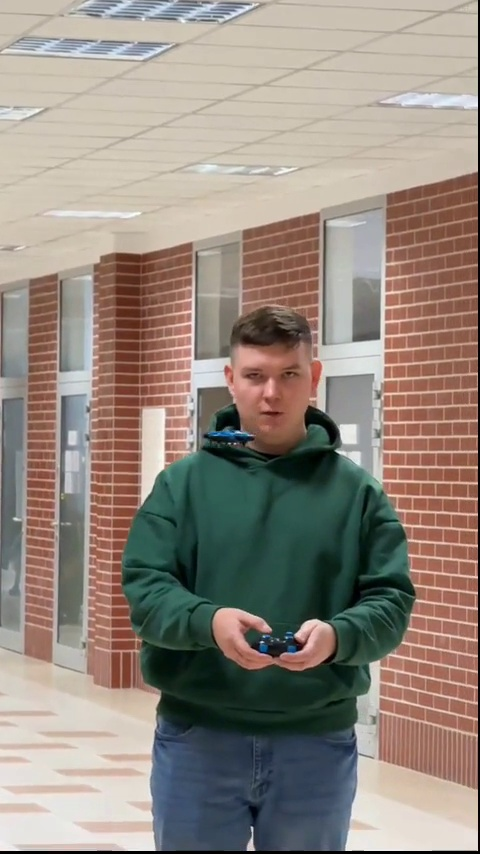drone: (202, 428, 252, 447)
no vest: (137, 309, 421, 843)
